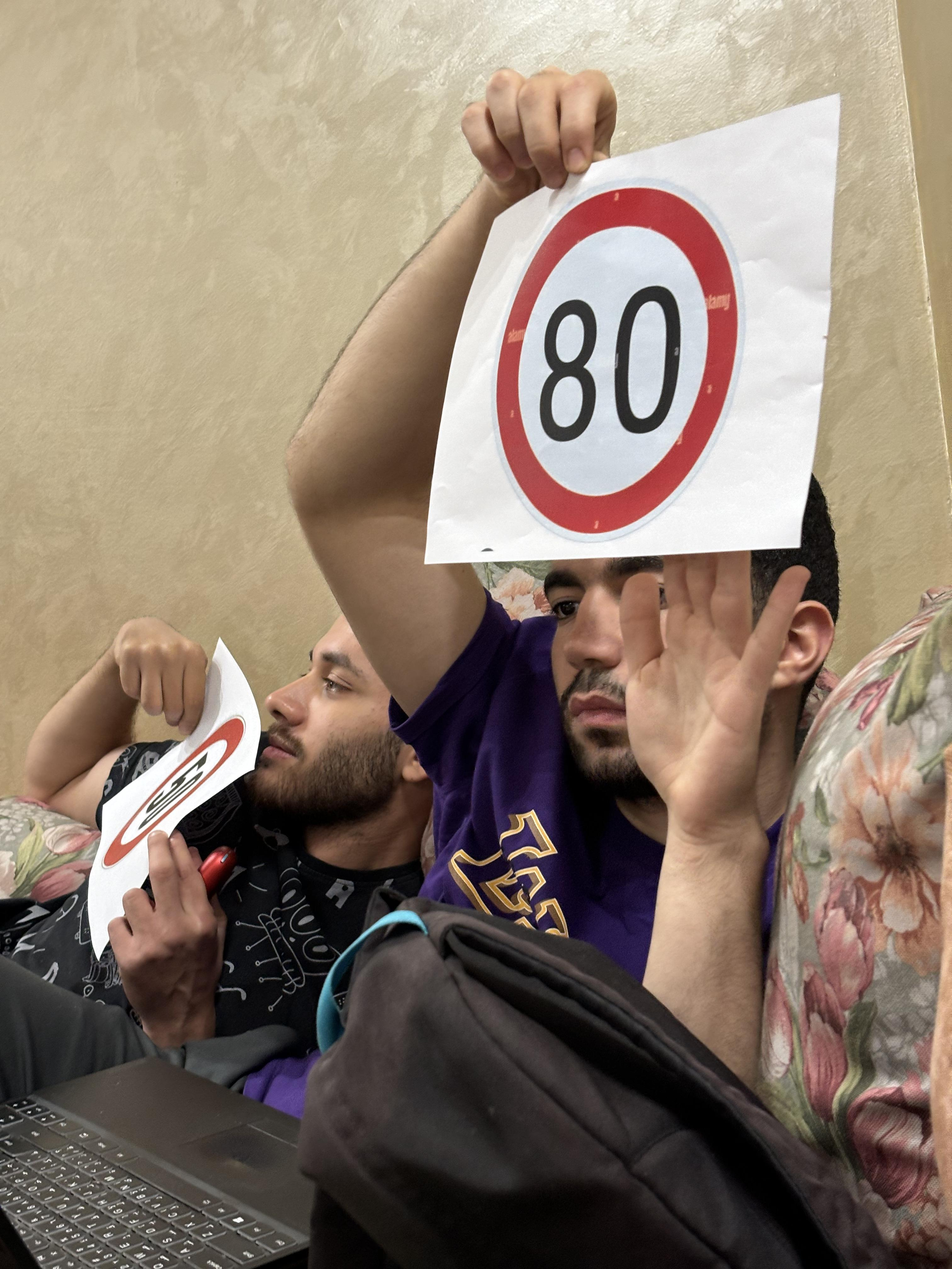80-Speed: (495, 186, 742, 530)
